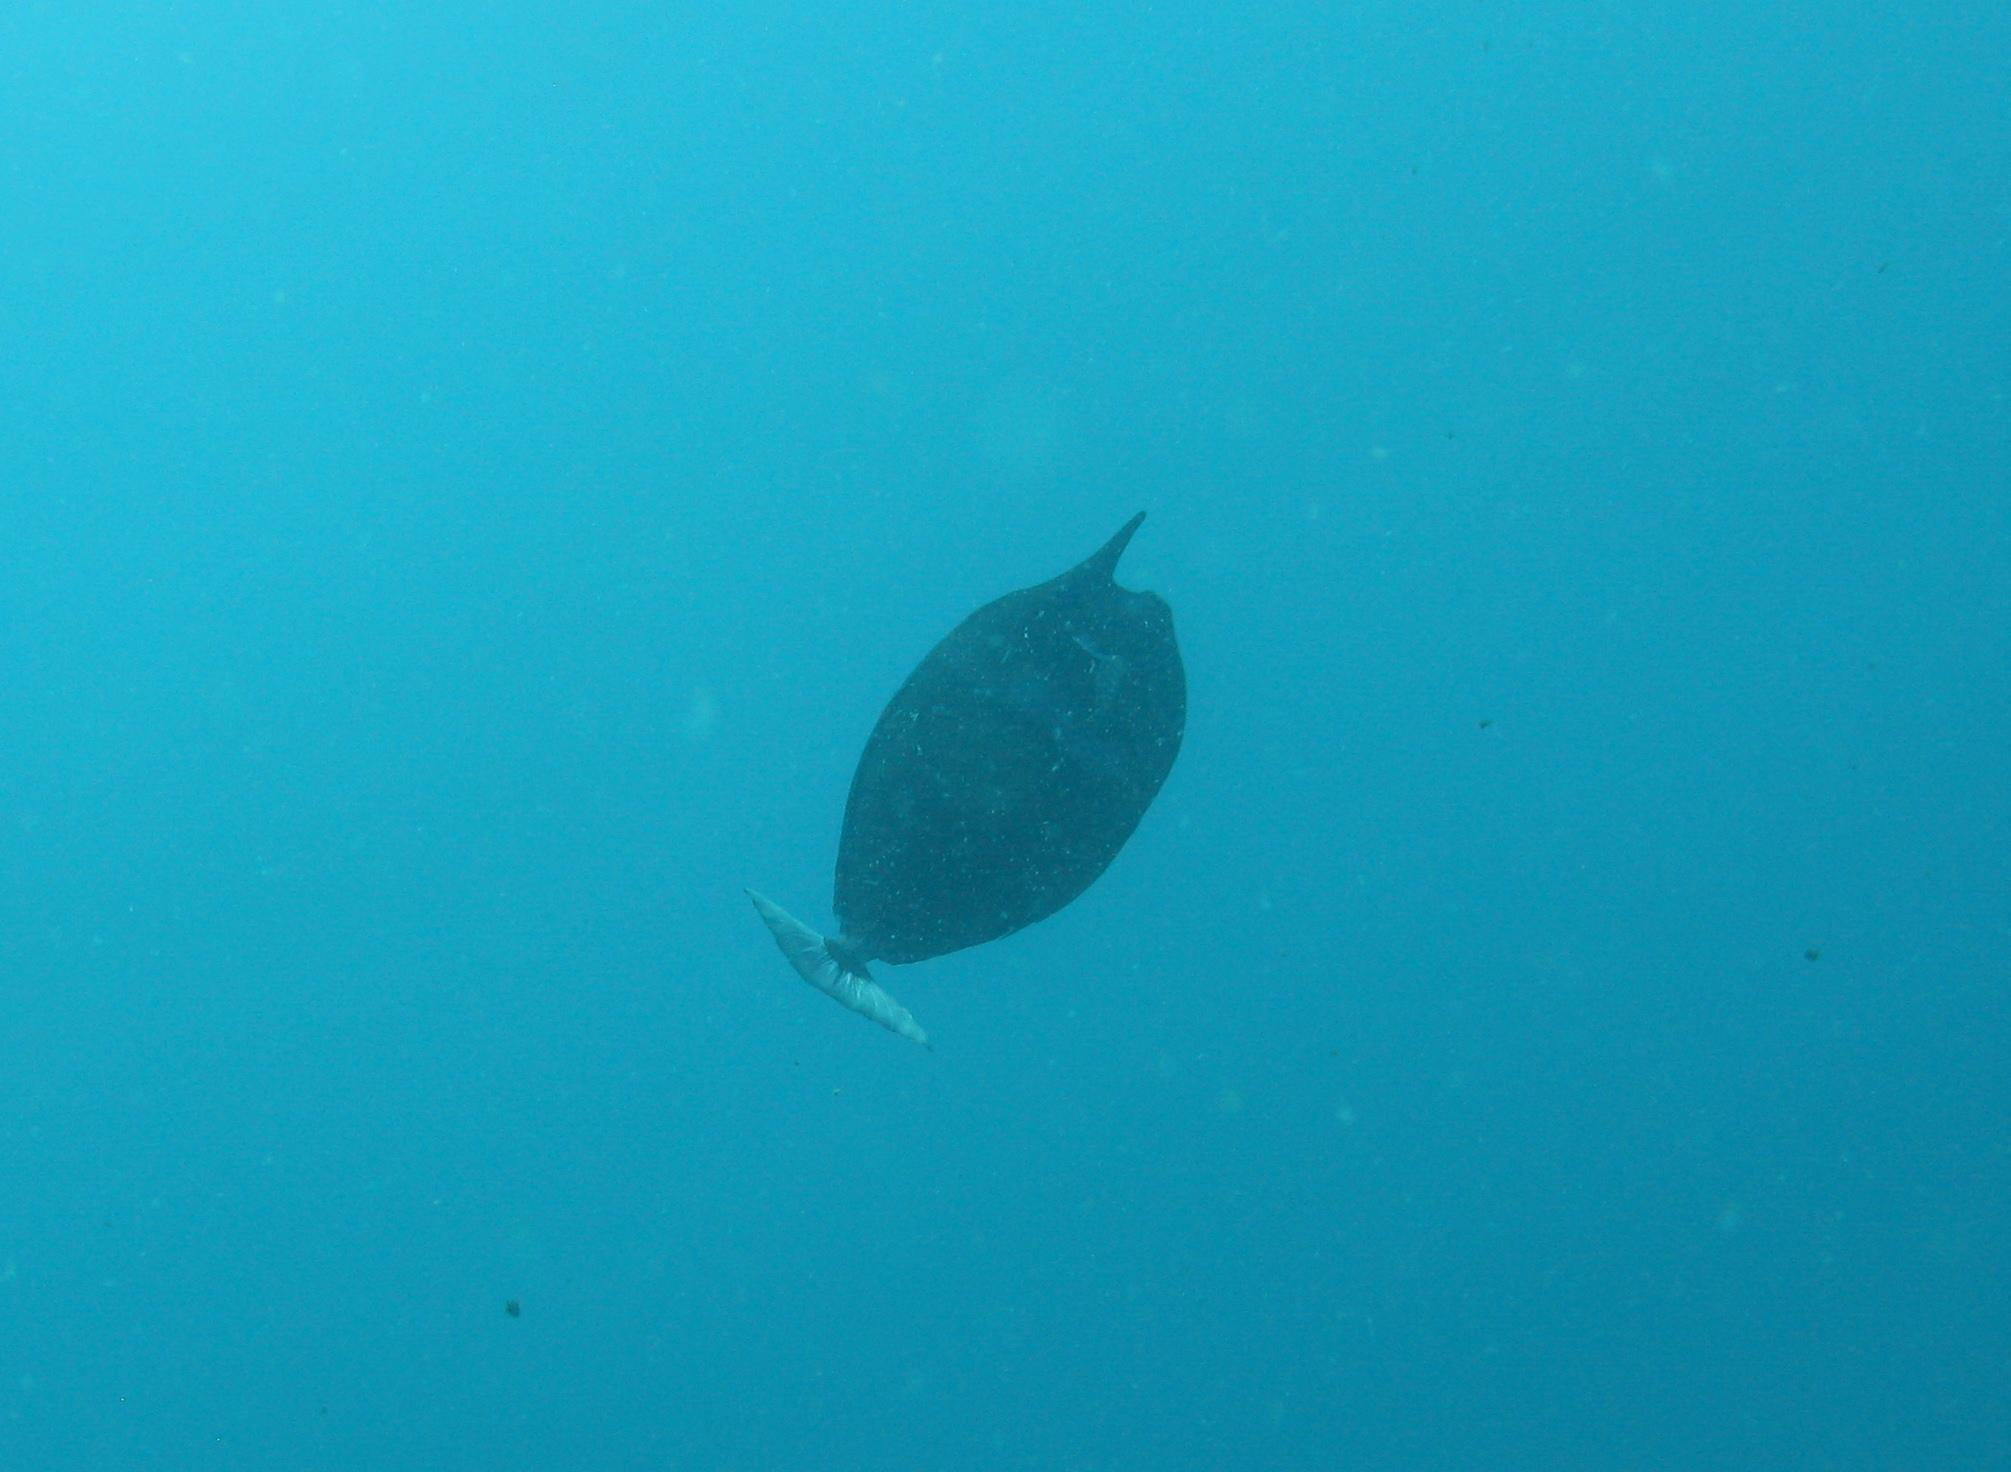Naso brevicordatus: (690, 482, 1312, 1111)
